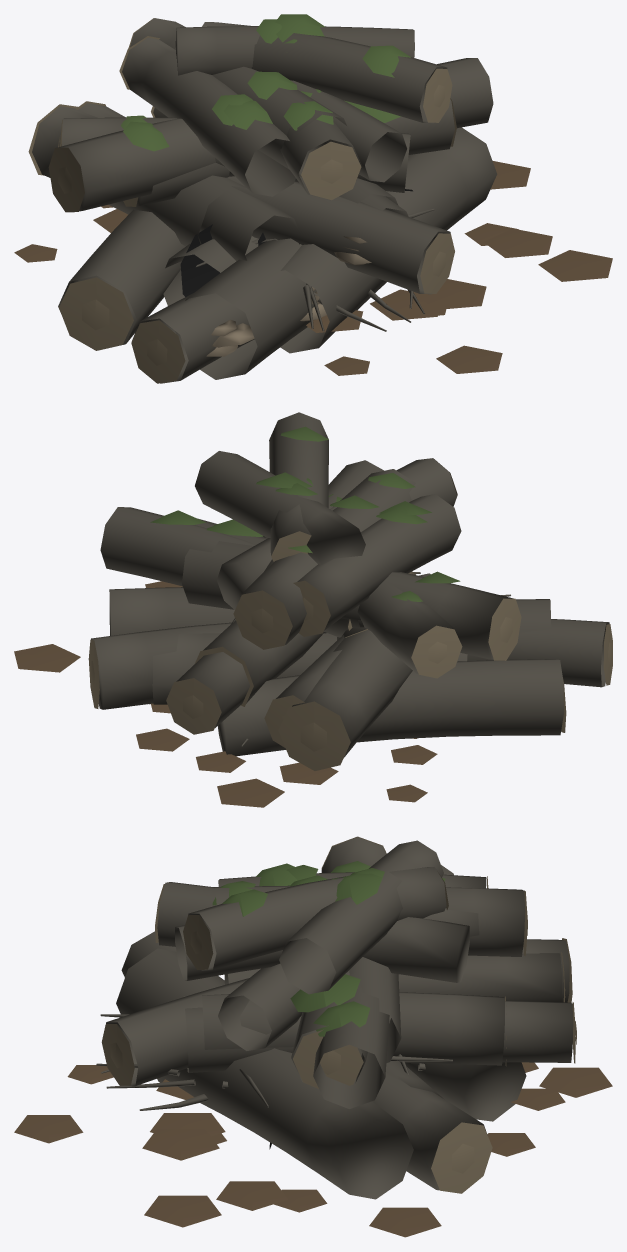
The model's file is log-pile-v1.glb.
3 views of the same model, one above another, from view 1: azimuth 30°, elevation 25°; view 2: azimuth 150°, elevation 25°; view 3: azimuth 270°, elevation 25° (orthographic). The views are drawn at different scales.
Visible parts, largest first — view 1: brash; view 2: brash; view 3: brash.
Part boxes in pixels (left/top/right/bottom): brash: left=14, top=14, right=612, bottom=383; brash: left=14, top=412, right=612, bottom=807; brash: left=14, top=836, right=612, bottom=1237.
Size of the model in its own units: 0.9354 by 0.4356 by 0.9102.
Materials: 1 (1 with a texture image).
